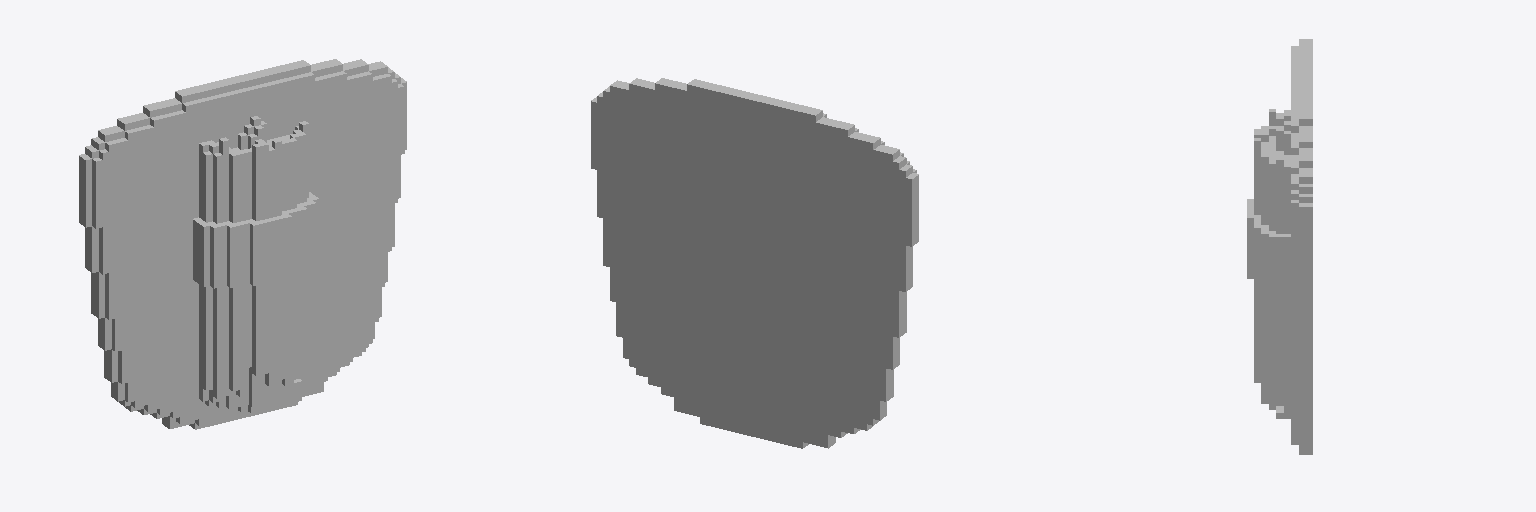
File: ZombShield.obj
3 views of the same model, side by side, from view 1: azimuth 30°, elevation 25°; view 2: azimuth 150°, elevation 25°; view 3: azimuth 270°, elevation 25° (orthographic).
Visible parts, largest first — view 1: object 1; view 2: object 1; view 3: object 1.
Part boxes in pixels (x1,y1,x2,y2): object 1: (79, 59, 406, 429); object 1: (591, 78, 918, 448); object 1: (1247, 39, 1312, 454).
Size of the model in its own units: 5 by 5 by 0.9.